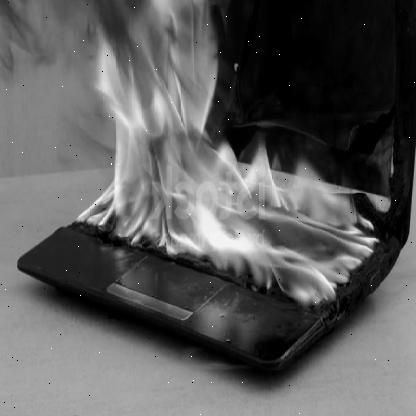fire: (78, 5, 376, 310)
smoke: (1, 5, 120, 77)
